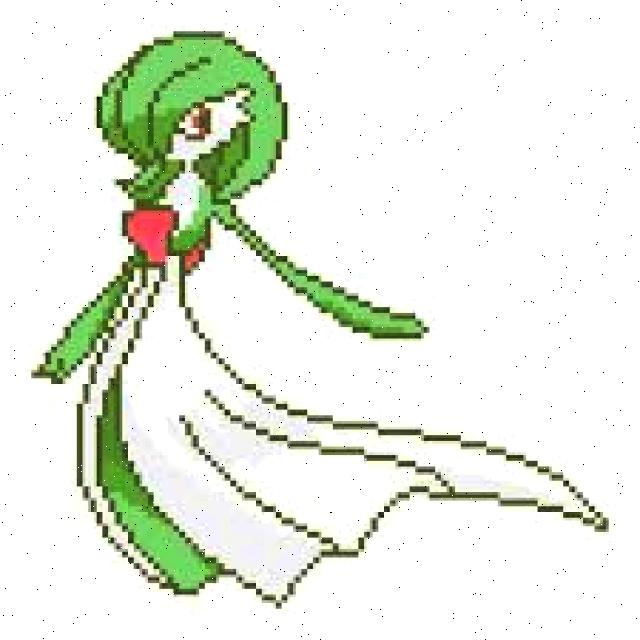gardevoir: (21, 33, 606, 606)
